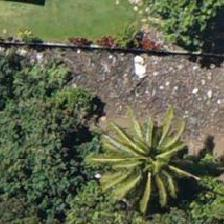coconut_tree: (109, 116, 199, 206)
